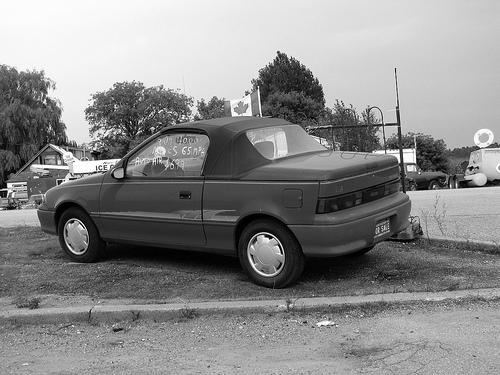car: (36, 115, 415, 294)
